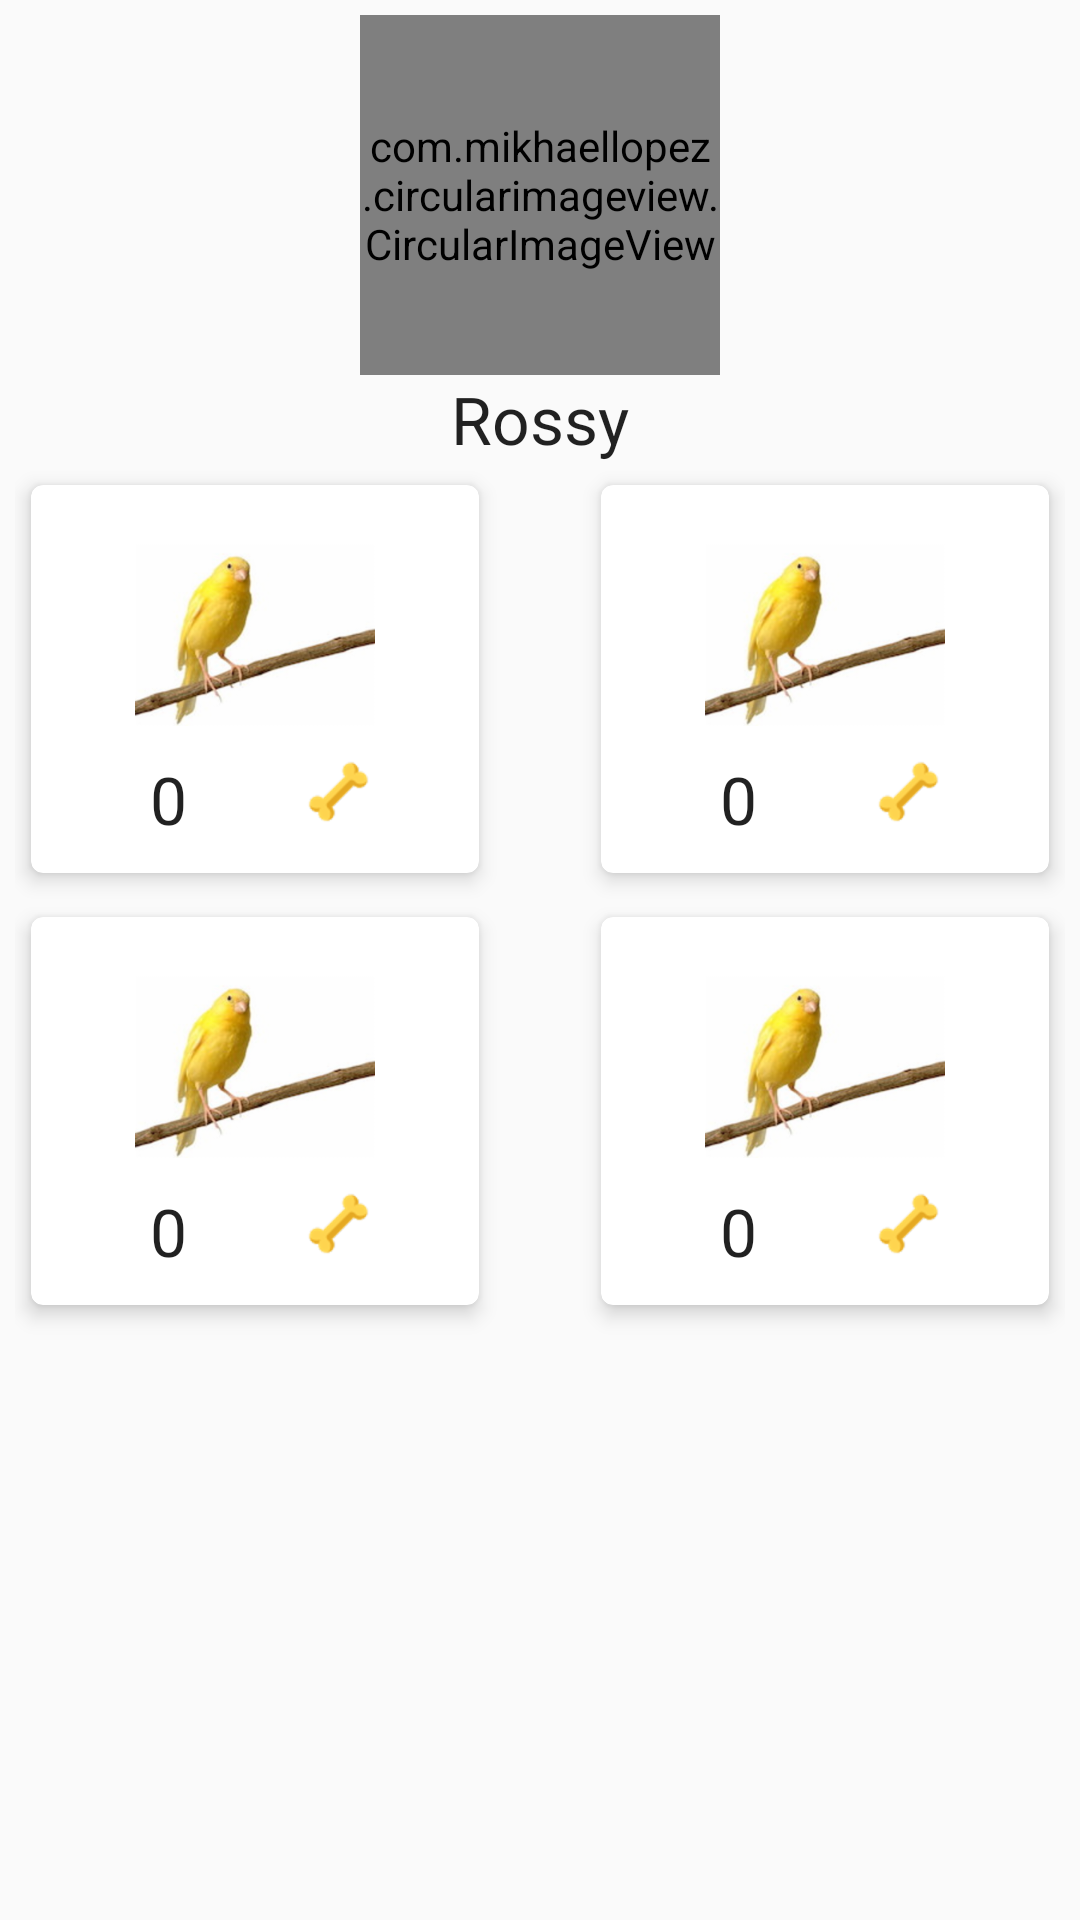

Icon click points for this 1080px x 1920px phone screenshot, format [x,y]:
bone: [338,791], [908,791], [338,1223], [908,1223]
canario: [255,640], [825,640], [255,1072], [825,1072]
